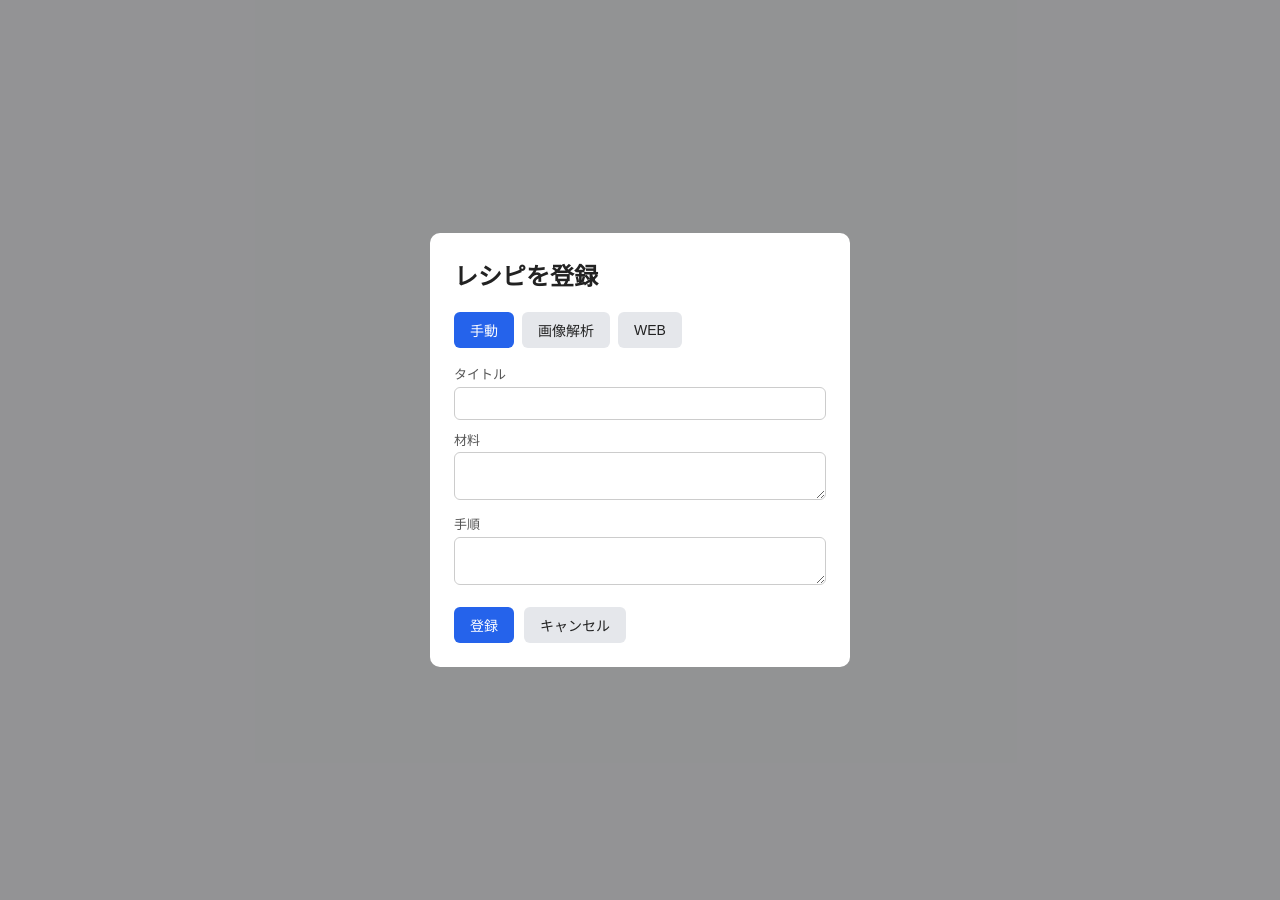
Test: RecipeModal 画像解析タブ › 解析前に登録しようとするとエラーを表示し、保存しない
Click the tab "画像解析": (566,330) x1=522 y1=312 x2=610 y2=348
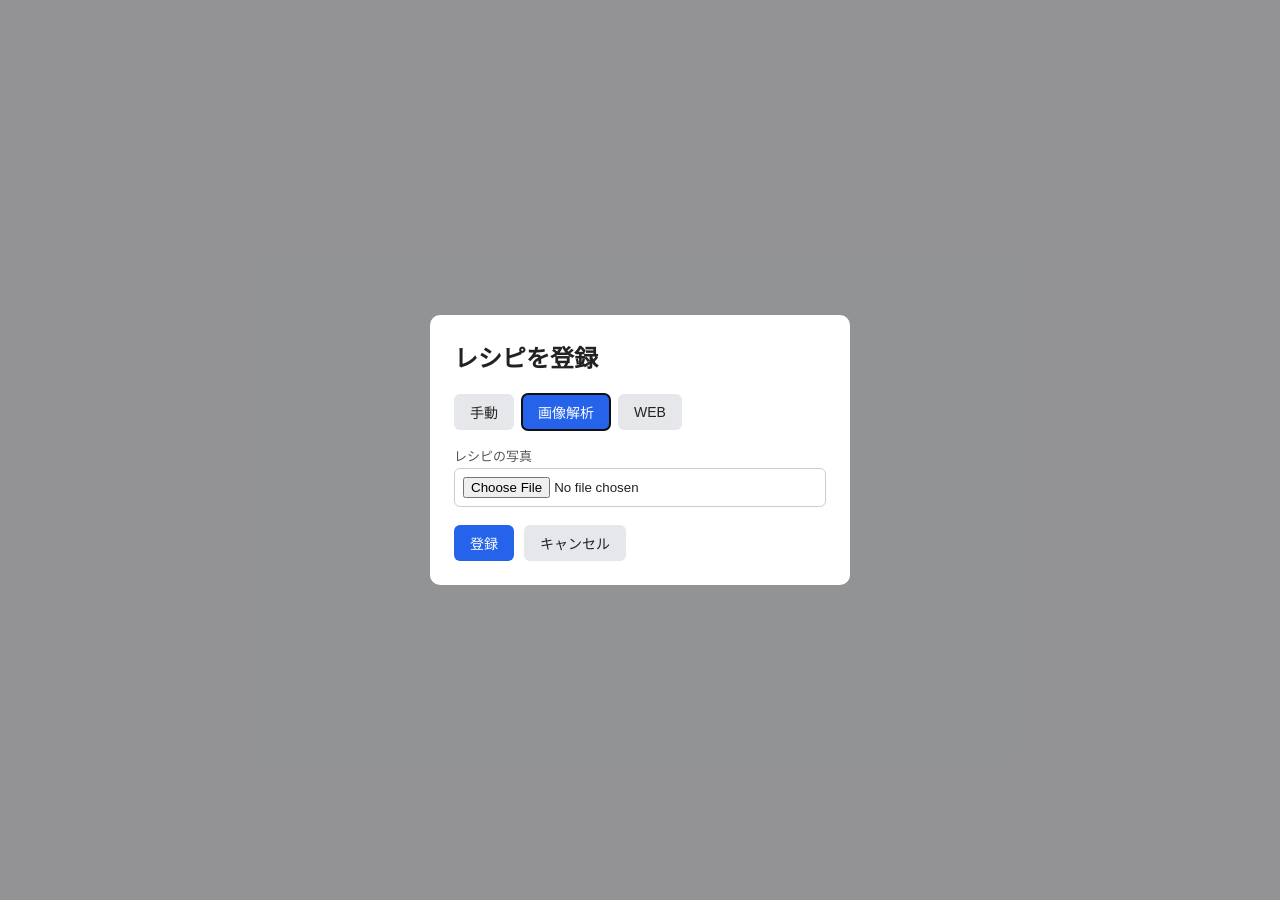
Click the button "登録": (484,543) x1=454 y1=525 x2=514 y2=561
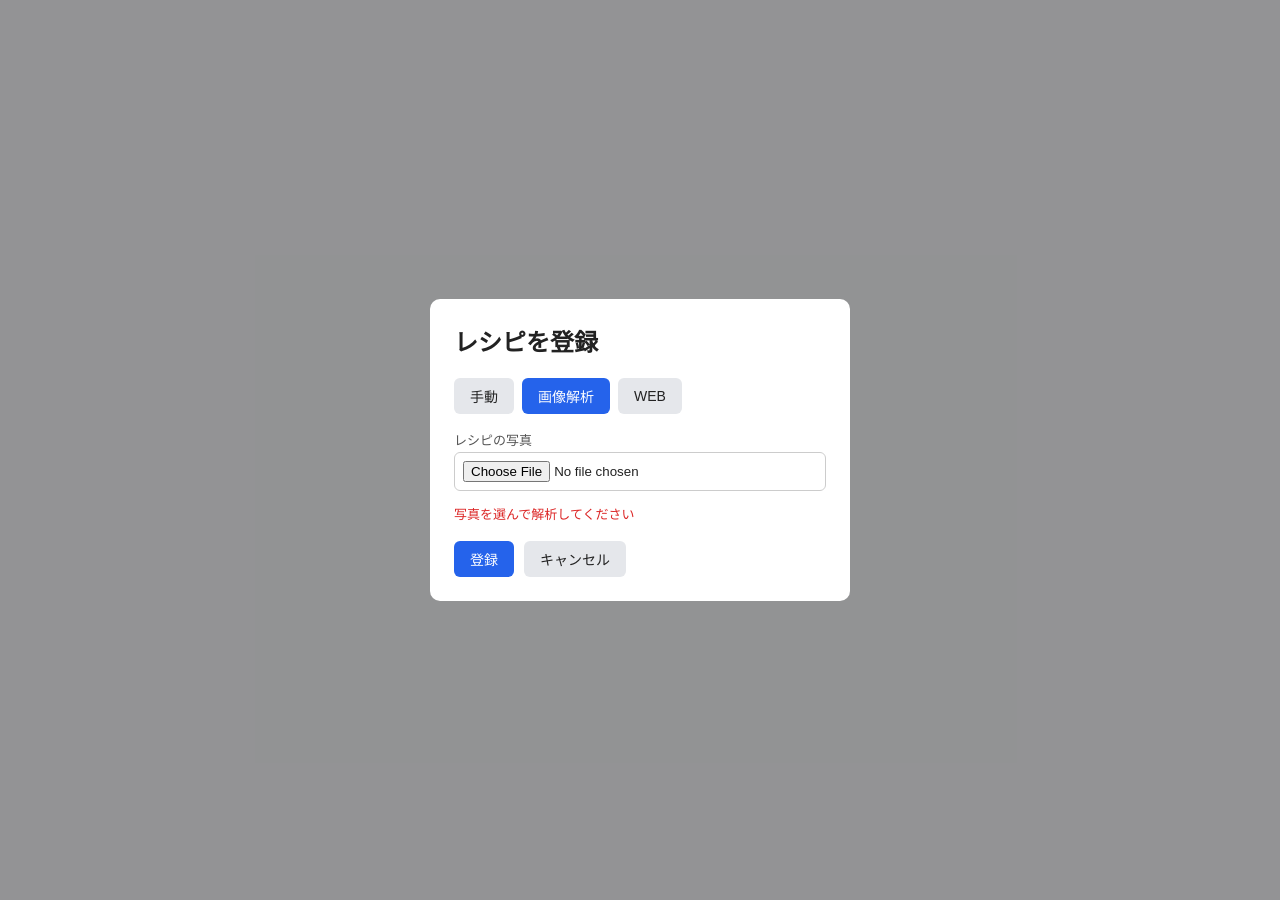
Now the text "写真を選んで解析してください" is shown, box x1=454 y1=506 x2=635 y2=522
